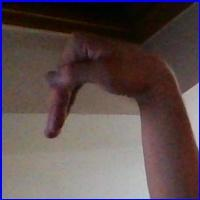A: (41, 32, 170, 151)
